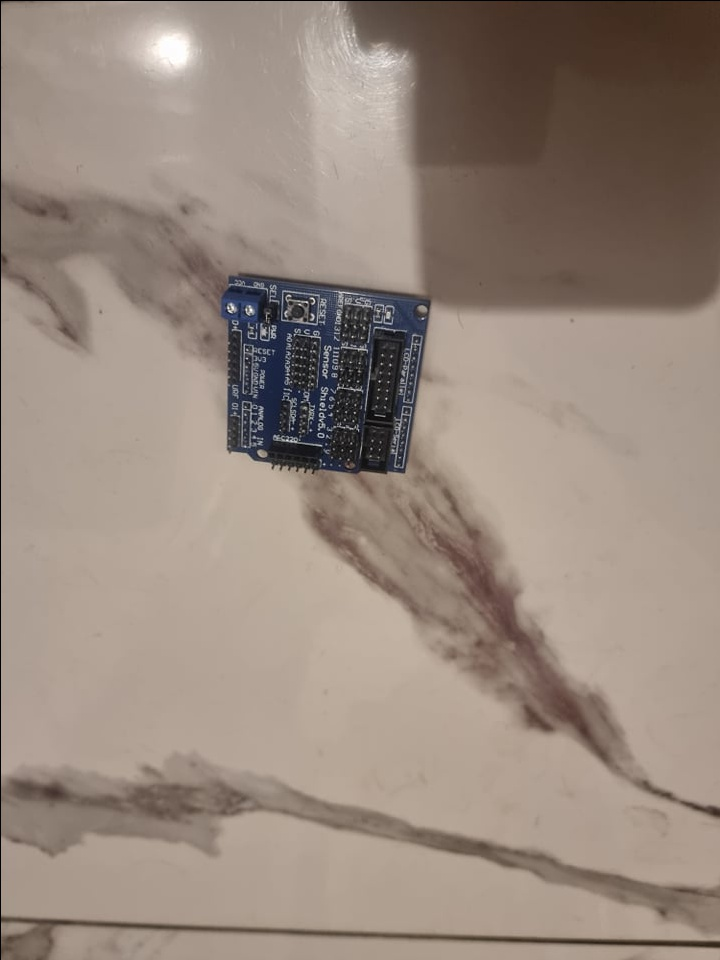5V EXPANSION: (221, 266, 430, 472)
